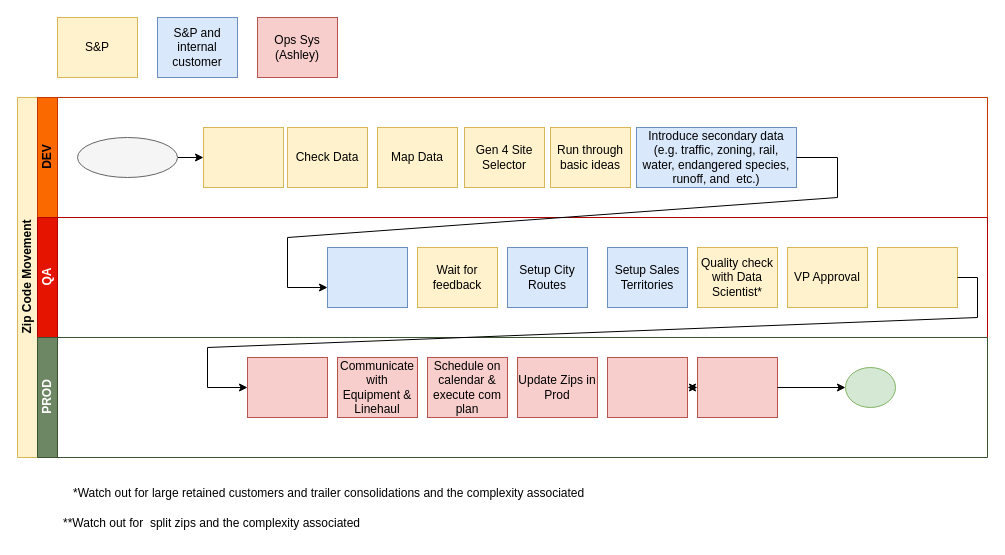
This 1005x555 diagram has some shape labels left out. Each missing label, with the centre of its shape:
Check Format & approval: pixel 287 387
Check returned queues: pixel 737 387
Need to make a Zip Change: pixel 127 157
Present data to RVP, SVC Mgr, or Sales Directors: pixel 367 277
Pull Data: pixel 243 157
Put data into update format**: pixel 917 277
RATB9000 for existing shipments: pixel 647 387
Updated Zips: pixel 870 387
